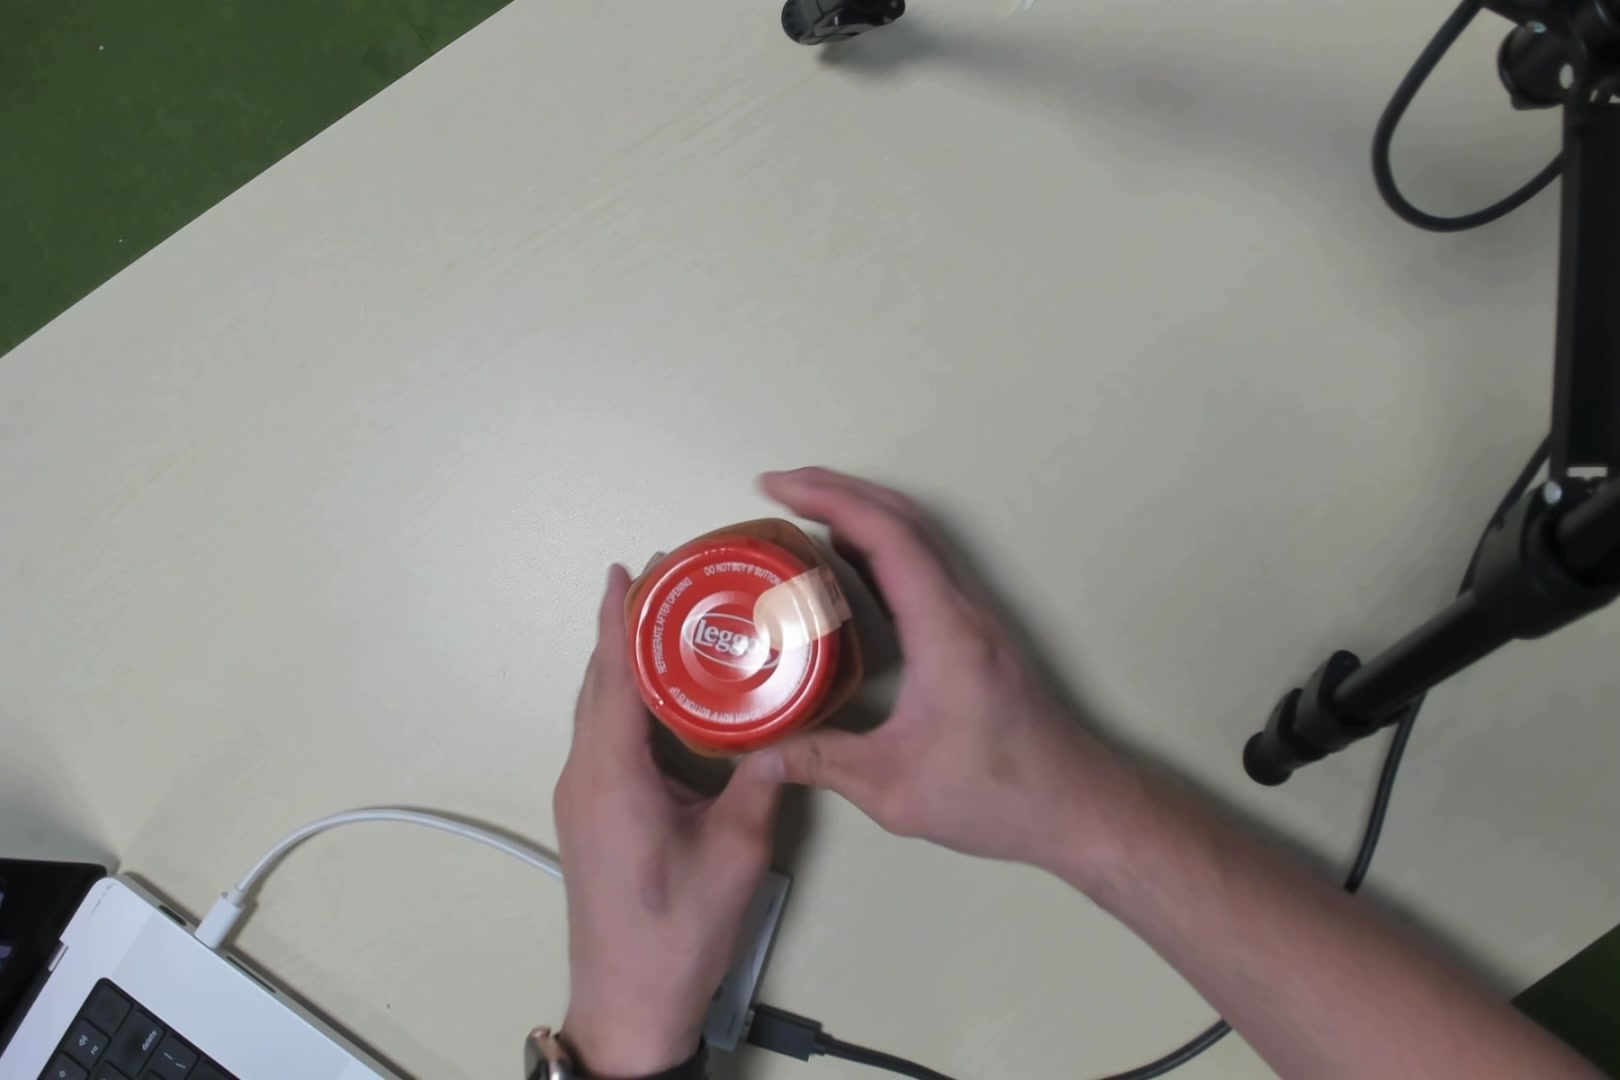Pasta_500-599g_Halal_NonHealthy: (634, 522, 843, 736)
